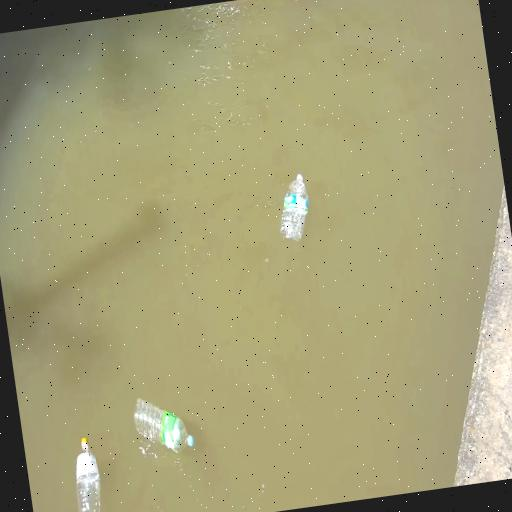plastic: (134, 398, 193, 452), (280, 174, 308, 241), (76, 438, 100, 511)
